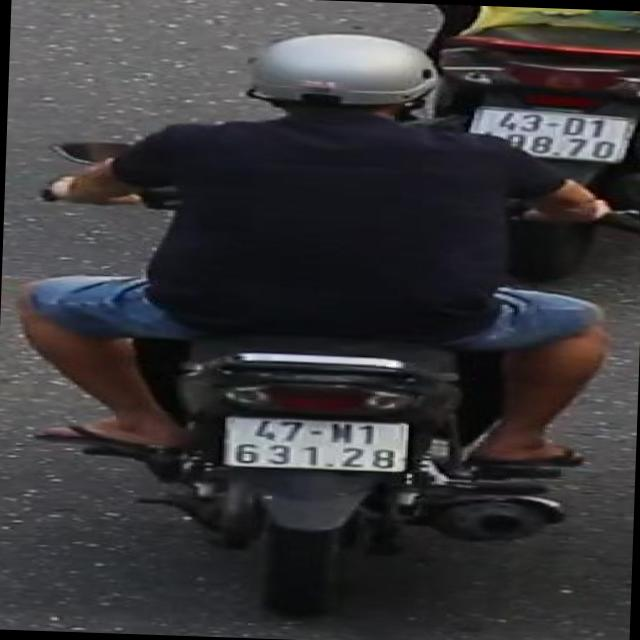LP: (214, 408, 417, 477)
helmet: (240, 25, 449, 134)
